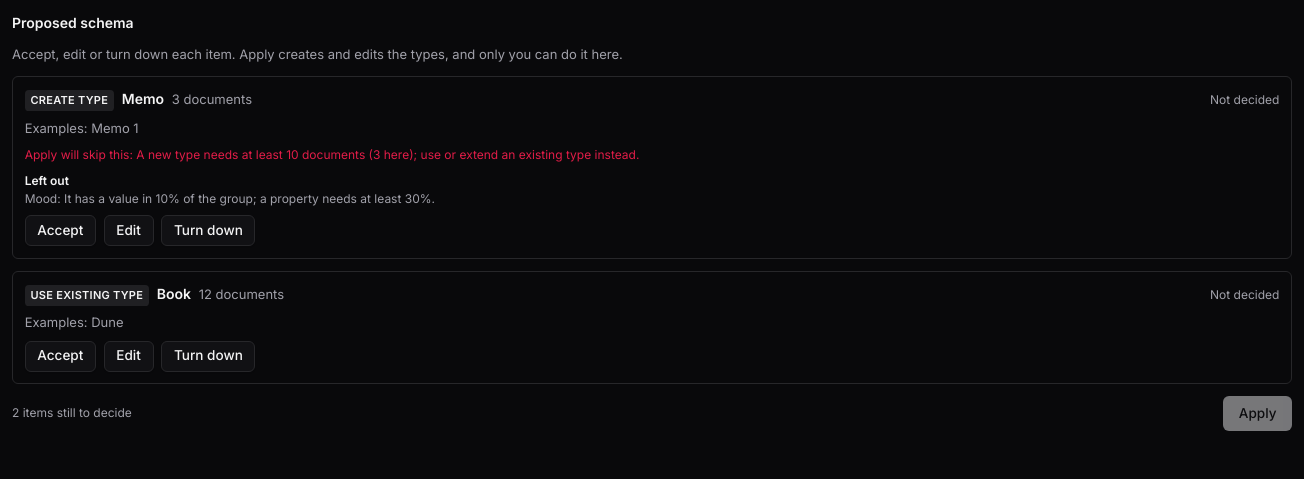
Test: ProposalStep › says why an item will be skipped and which properties were left out; the summary names the skipped (fix pass H)
The width and height of the screenshot is (1304, 479).
Click the button "Accept" below "Create type" at (60, 231), box top-left (25, 215), bottom-right (96, 246)
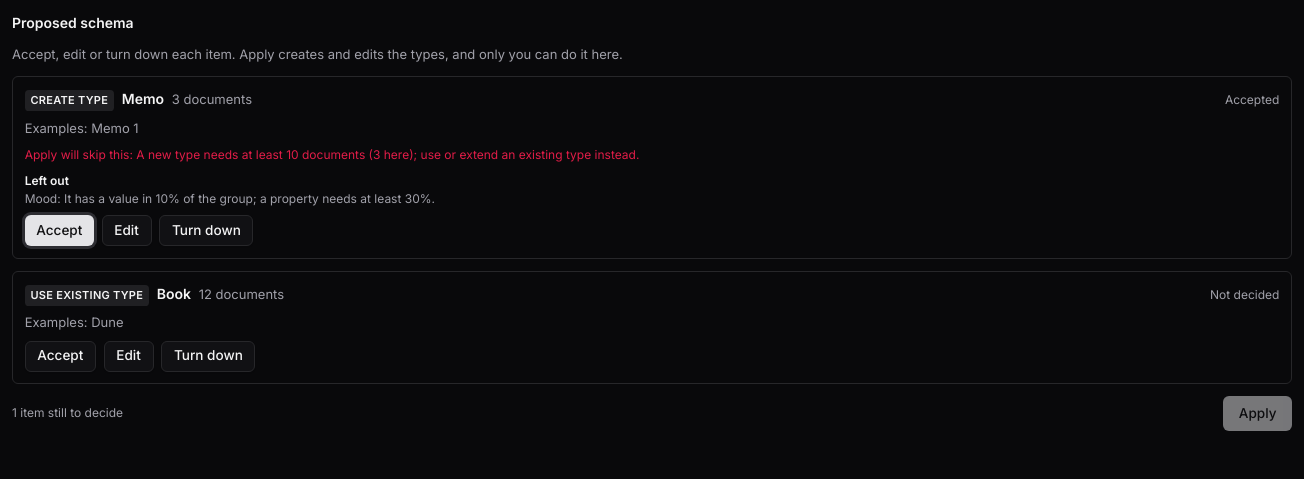
Click the button "Turn down" below "Use existing type" at (208, 356), box top-left (161, 341), bottom-right (255, 372)
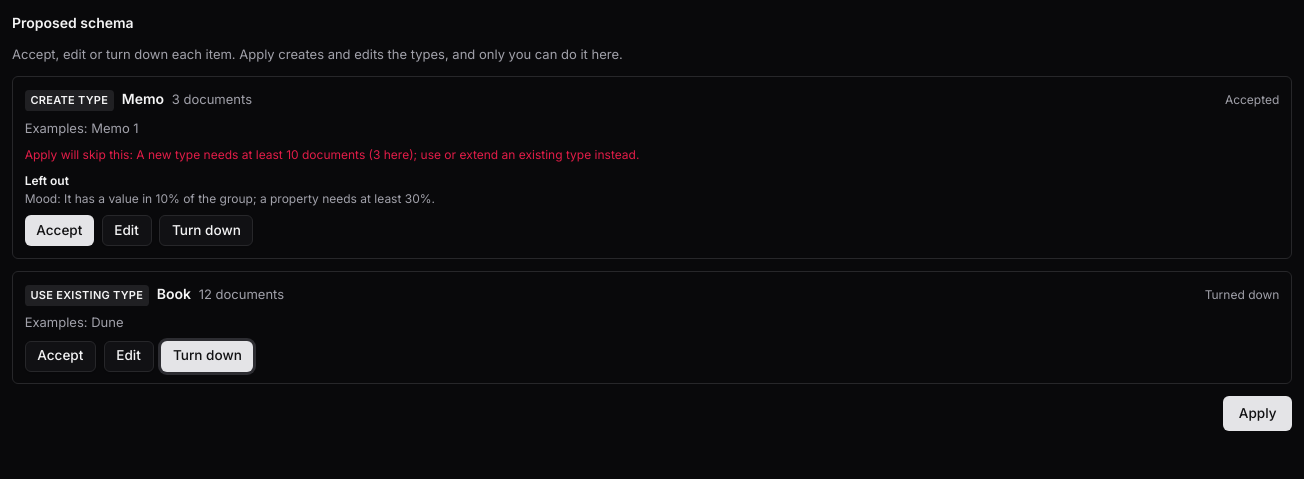
Click the button "Apply" at (1258, 413), box top-left (1223, 396), bottom-right (1292, 431)
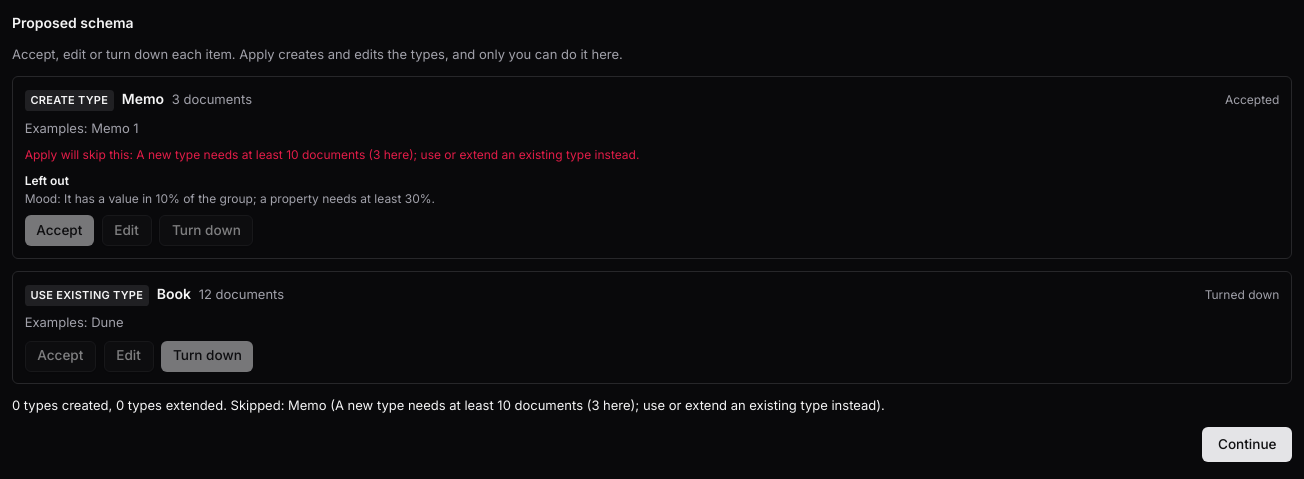
Expected: the message does not show "Book", top-left (12, 397), bottom-right (885, 413)
Expected: the message shows "Skipped: Memo (A new type needs at least 10 documents (3 here); use or extend an existing type instead).", top-left (227, 397), bottom-right (885, 413)
